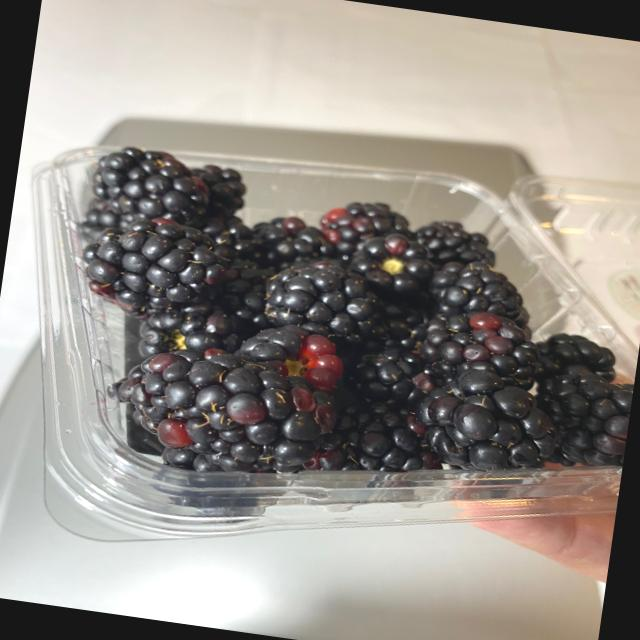blackberries: (31, 137, 640, 499)
